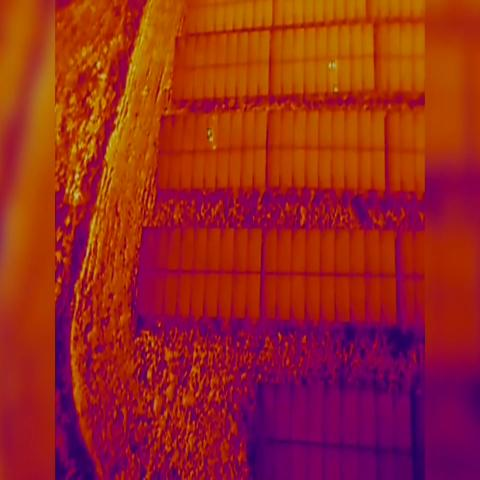fault: (207, 128, 212, 139), (333, 84, 338, 94), (331, 60, 335, 68), (213, 145, 217, 153), (328, 60, 330, 71)
